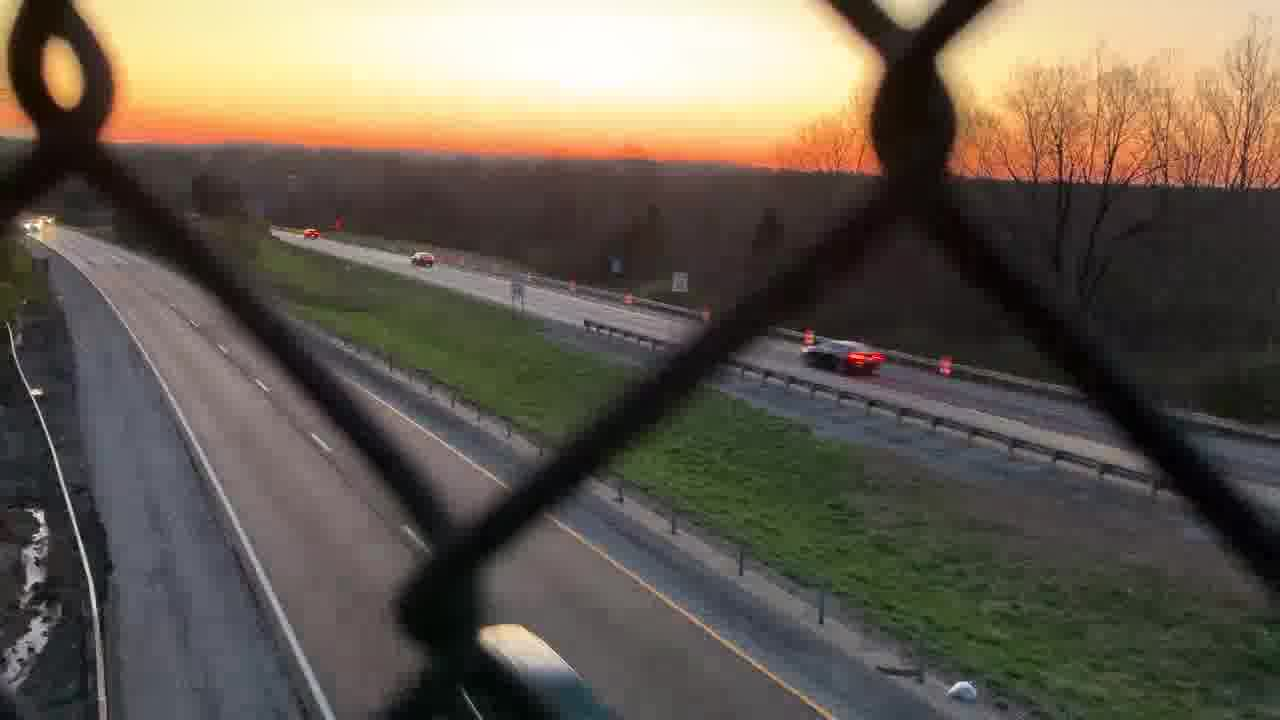smallCar: (799, 331, 887, 375)
